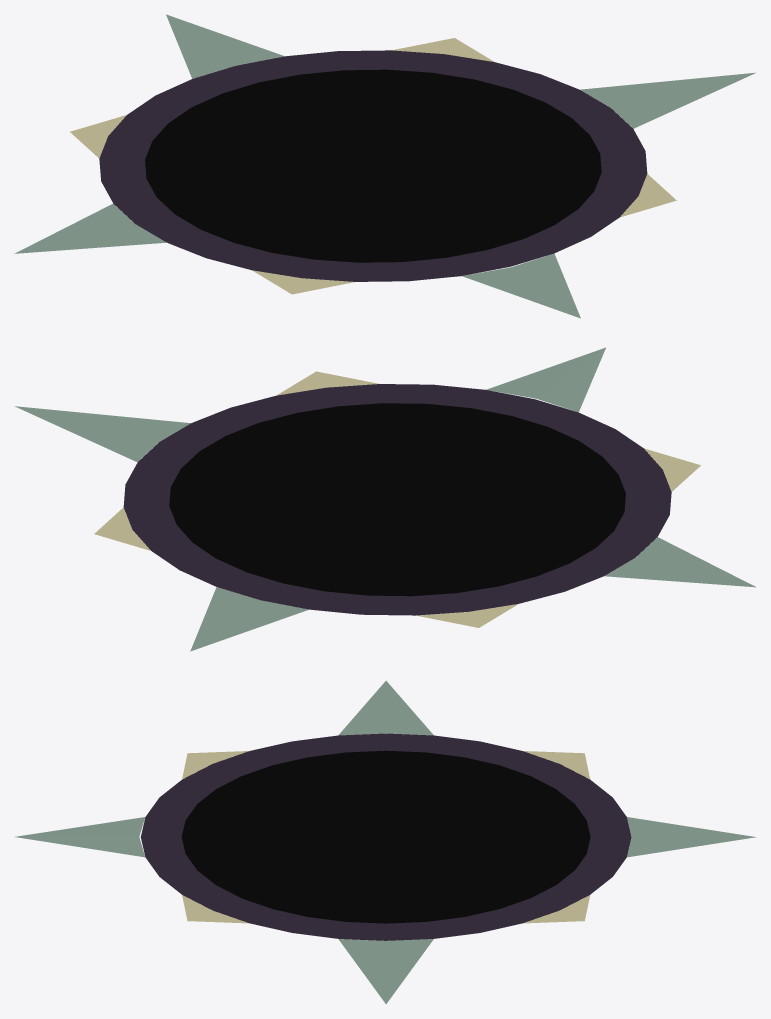
3 views of the same model, one above another, from view 1: azimuth 30°, elevation 25°; view 2: azimuth 150°, elevation 25°; view 3: azimuth 270°, elevation 25° (orthographic). The views are drawn at different scales.
Visible parts, largest first — view 1: Circle.002, Circle; view 2: Circle.002, Circle; view 3: Circle.002, Circle.
Part boxes in pixels (<box>): Circle.002: <box>99,50,647,281</box>; Circle: <box>14,14,755,318</box>; Circle.002: <box>123,384,671,615</box>; Circle: <box>14,347,755,651</box>; Circle.002: <box>140,733,631,940</box>; Circle: <box>15,680,756,1004</box>.
Size of the model in its own units: 30584 by 2.81 by 29636.
